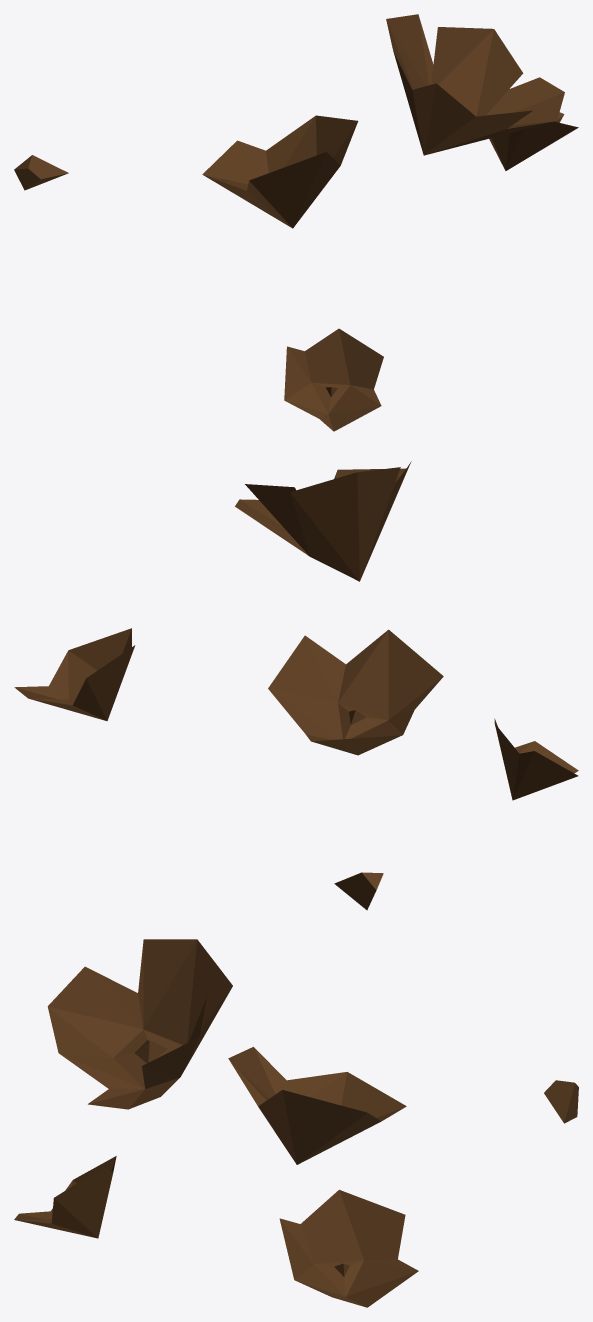
File: SM_Flower_Poppy_Floating_Mature_A.fbx
3 renders of one model, top to bottom at view 1: azimuth 30°, elevation 25°; view 2: azimuth 150°, elevation 25°; view 3: azimuth 270°, elevation 25°, orthographic. The views are drawn at different scales.
Parts seen in each view (by area): view 1: flower-poppy-floating-mature-a; view 2: flower-poppy-floating-mature-a; view 3: flower-poppy-floating-mature-a.
Boxes of the visible parts, left/top/right/bottom form: flower-poppy-floating-mature-a: left=14, top=14, right=578, bottom=431; flower-poppy-floating-mature-a: left=14, top=461, right=578, bottom=910; flower-poppy-floating-mature-a: left=14, top=939, right=578, bottom=1307.
Size of the model in its own units: 0.4505 by 0.3127 by 0.4504.
